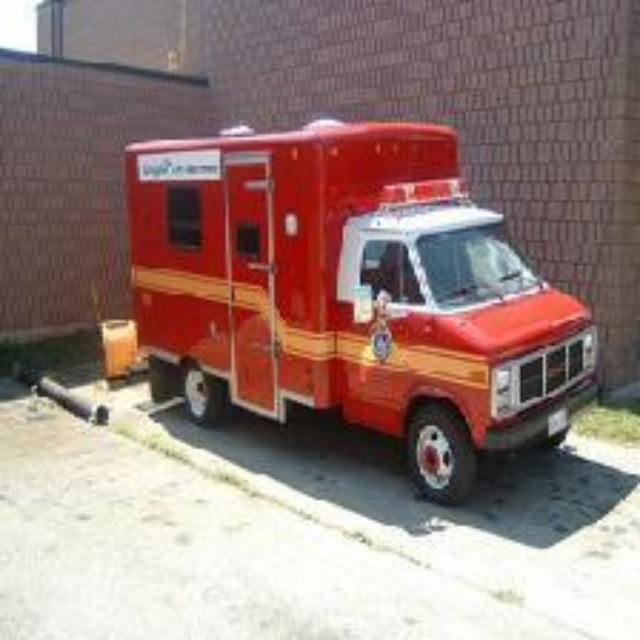emergency: (112, 129, 626, 431)
